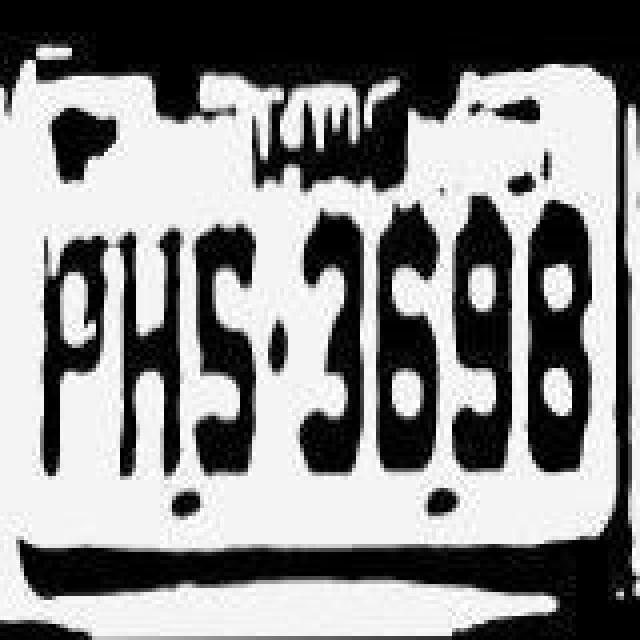3: (290, 206, 366, 494)
6: (374, 206, 442, 494)
8: (524, 202, 596, 486)
9: (450, 190, 526, 478)
H: (108, 214, 180, 490)
P: (18, 214, 110, 482)
S: (190, 214, 266, 486)
